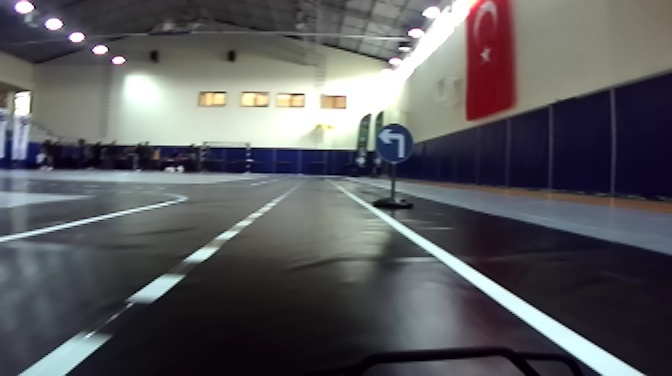sola_donus: (373, 122, 416, 162)
